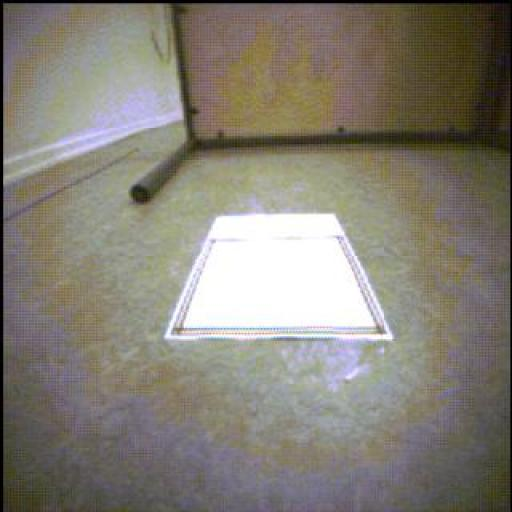Pad: (163, 216, 416, 342)
